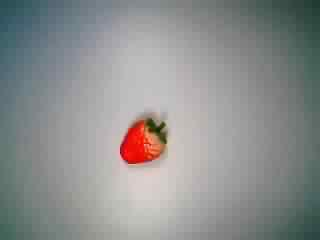strawberry: (109, 110, 175, 172)
